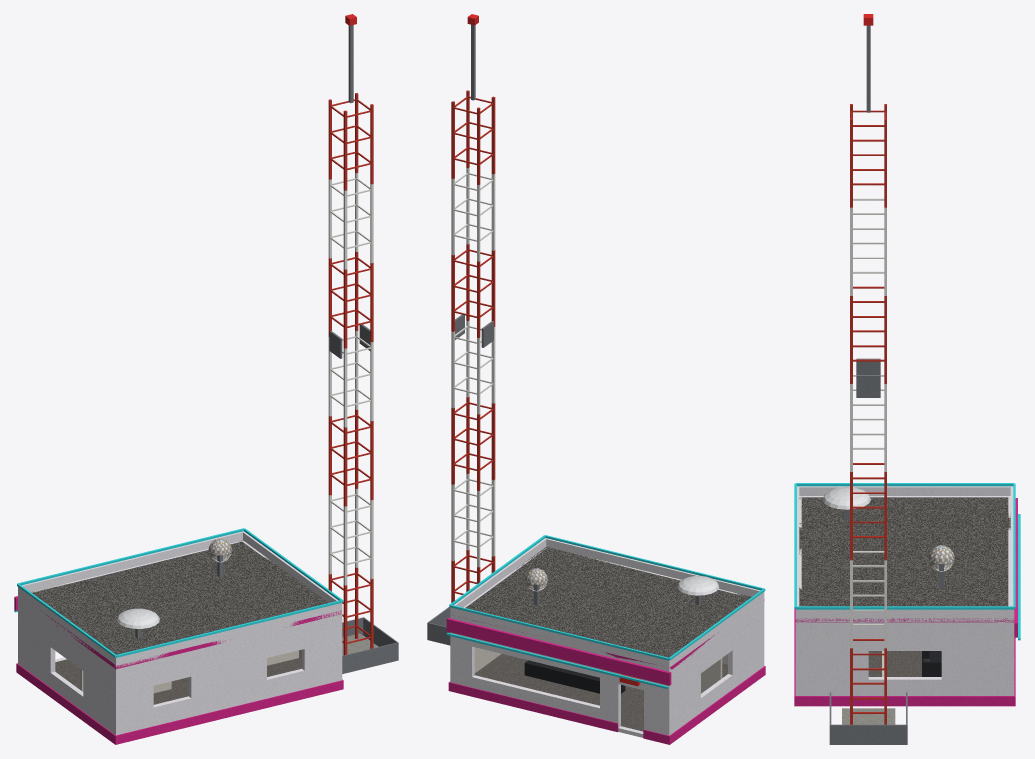
Rendered from radio_station_disko.glb.
The picture shows the model from 3 angles, left to right: view 1: azimuth 30°, elevation 25°; view 2: azimuth 150°, elevation 25°; view 3: azimuth 270°, elevation 25°; orthographic projection. The views are drawn at different scales.
Visible parts, largest first — view 1: radio_station_disko; view 2: radio_station_disko; view 3: radio_station_disko.
Boxes of the visible parts, box(x1,y1,x2,y2) form: radio_station_disko: box(14, 14, 398, 744); radio_station_disko: box(427, 14, 765, 744); radio_station_disko: box(794, 14, 1020, 744).
Size of the model in its own units: 15.9 by 32.35 by 9.3.
Materials: 15 (15 with a texture image).
